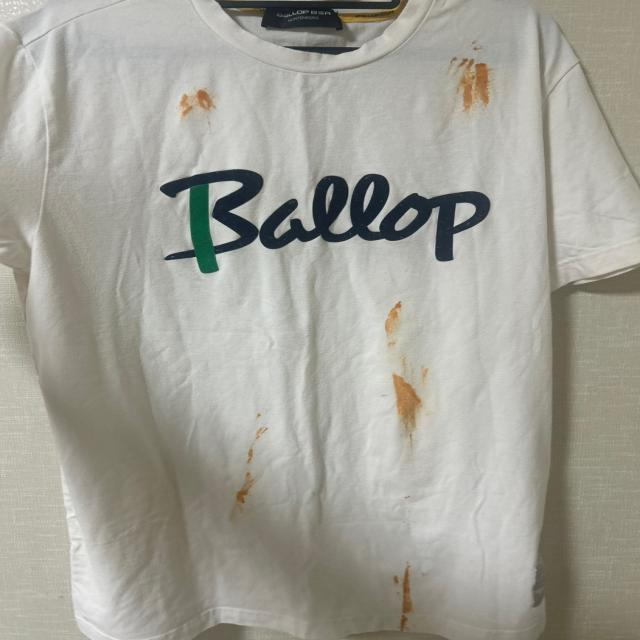stain: (230, 410, 274, 516), (384, 361, 436, 443), (443, 56, 502, 117), (386, 560, 423, 634), (168, 82, 226, 119), (381, 297, 418, 354), (463, 40, 480, 54)
